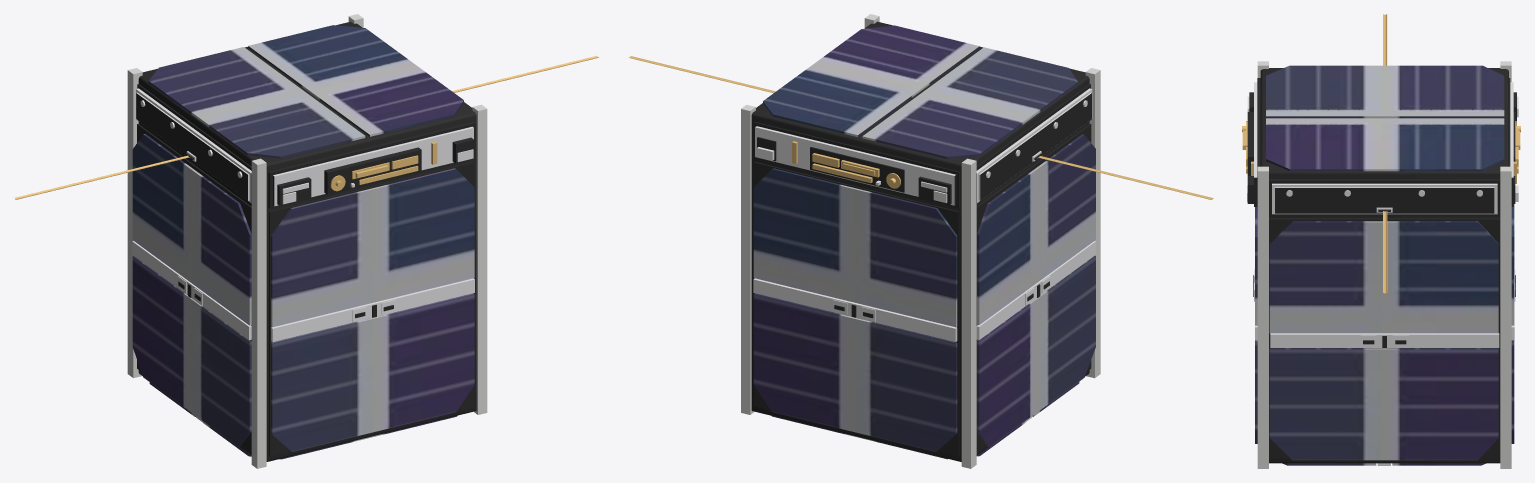
Rendered from cubesat-1u.glb.
The picture shows the model from 3 angles, left to right: view 1: azimuth 30°, elevation 25°; view 2: azimuth 150°, elevation 25°; view 3: azimuth 270°, elevation 25°; orthographic projection. The views are drawn at different scales.
Visible parts, largest first — view 1: Layer_0; view 2: Layer_0; view 3: Layer_0.
Boxes of the visible parts, x1,y1,x2,y2 form: Layer_0: (14,14,598,468); Layer_0: (629,14,1213,468); Layer_0: (1242,14,1520,468).
Bounding box in the file's own units: 0.2363 × 0.1184 × 0.1.
Materials: 5 (1 with a texture image).
